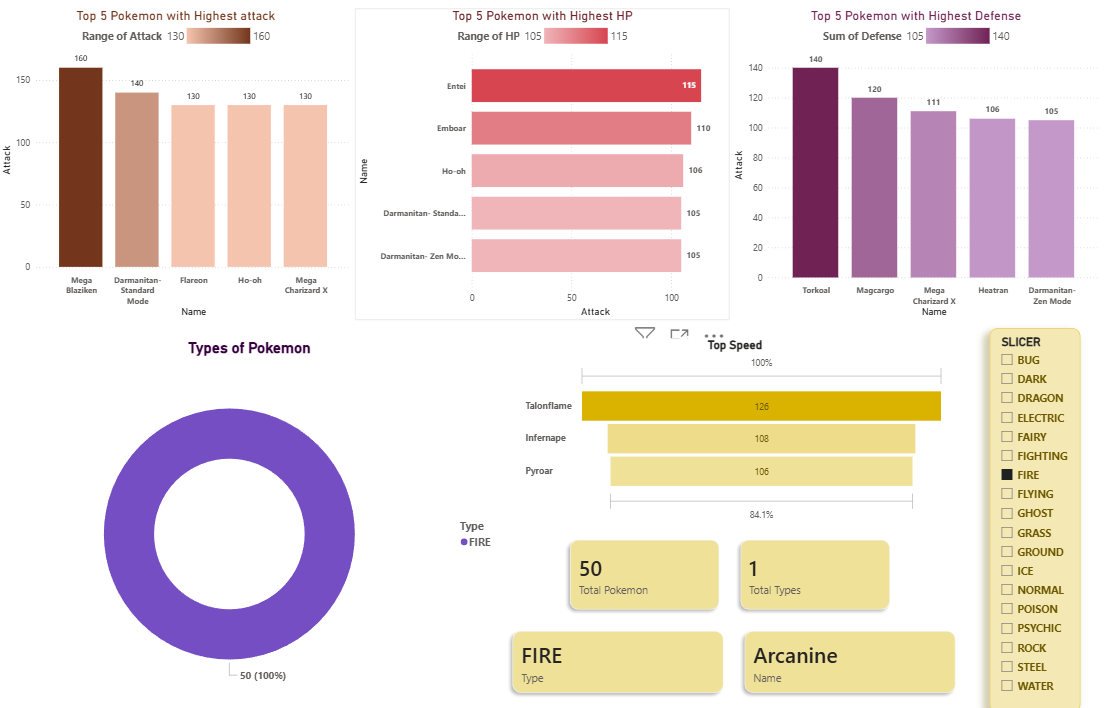

What the dashboard file says about the page in this screenshot:
{"tool":"powerbi","page":{"name":"Page 2","canvas":[1700,1080],"ordinal":0},"visuals":[{"type":"slicer","fields":{"Values":["Pokemon (2).Type"]},"box":[1500,500,136.5,578.8],"z":1000},{"type":"columnChart","title":"Top 5 Pokemon with  Highest Defense","fields":{"Y":["Sum(Pokemon (2).Defense)"],"Category":["Pokemon (2).Name"]},"box":[1107.9,16.5,563.1,471.4],"z":2000},{"type":"clusteredBarChart","title":"Top 5 Pokemon with  Highest HP","fields":{"Y":["Sum(Pokemon (2).HP)"],"Category":["Pokemon (2).Name"]},"box":[541.1,16.5,566.8,471.4],"z":3000},{"type":"funnel","title":"Top Speed","fields":{"Category":["Pokemon (2).Name"],"Y":["Sum(Pokemon (2).Speed)"]},"box":[794.2,515.4,642.3,282.7],"z":4000},{"type":"donutChart","title":"Types of Pokemon","fields":{"Category":["Pokemon (2).Type"],"Y":["CountNonNull(Pokemon (2).#)"]},"box":[0,515.4,764.9,564.9],"z":5000},{"type":"cardVisual","fields":{"Data":["Min(Pokemon (2).Type)","Min(Pokemon (2).Name)"]},"box":[750,928.1,726.9,151.9],"z":6000},{"type":"cardVisual","fields":{"Data":["CountNonNull(Pokemon (2).#)","Count(Pokemon (2).Type)"]},"box":[838.5,790.4,540.4,163.5],"z":7000},{"type":"columnChart","title":"Top 5 Pokemon with  Highest attack","fields":{"Y":["Sum(Pokemon (2).Attack)"],"Category":["Pokemon (2).Name"]},"box":[1.8,16.5,539.3,471.4],"z":8000}]}

Visuals, with their boxes in screenshot pixels (x1, y1, x2, y2), scaled from the page's 1700x1080 canvas onto the 1118x708 screenshot:
slicer - Pokemon (2).Type: bbox=(986, 328, 1076, 707)
"Top 5 Pokemon with  Highest Defense" columnChart: bbox=(729, 11, 1099, 320)
"Top 5 Pokemon with  Highest HP" clusteredBarChart: bbox=(356, 11, 729, 320)
"Top Speed" funnel: bbox=(522, 338, 945, 523)
"Types of Pokemon" donutChart: bbox=(0, 338, 503, 707)
cardVisual - Min(Pokemon (2).Type) x Min(Pokemon (2).Name): bbox=(493, 608, 971, 707)
cardVisual - CountNonNull(Pokemon (2).#) x Count(Pokemon (2).Type): bbox=(551, 518, 907, 625)
"Top 5 Pokemon with  Highest attack" columnChart: bbox=(1, 11, 356, 320)
